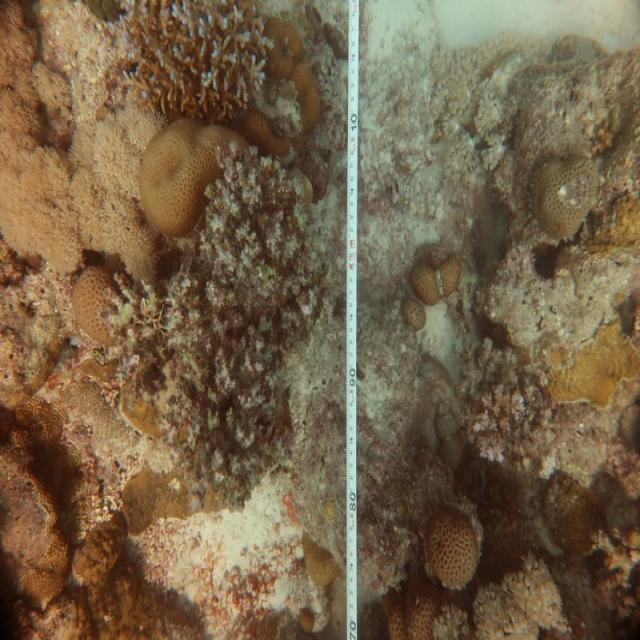Healthy Coral: (0, 0, 248, 353), (377, 496, 525, 640)
